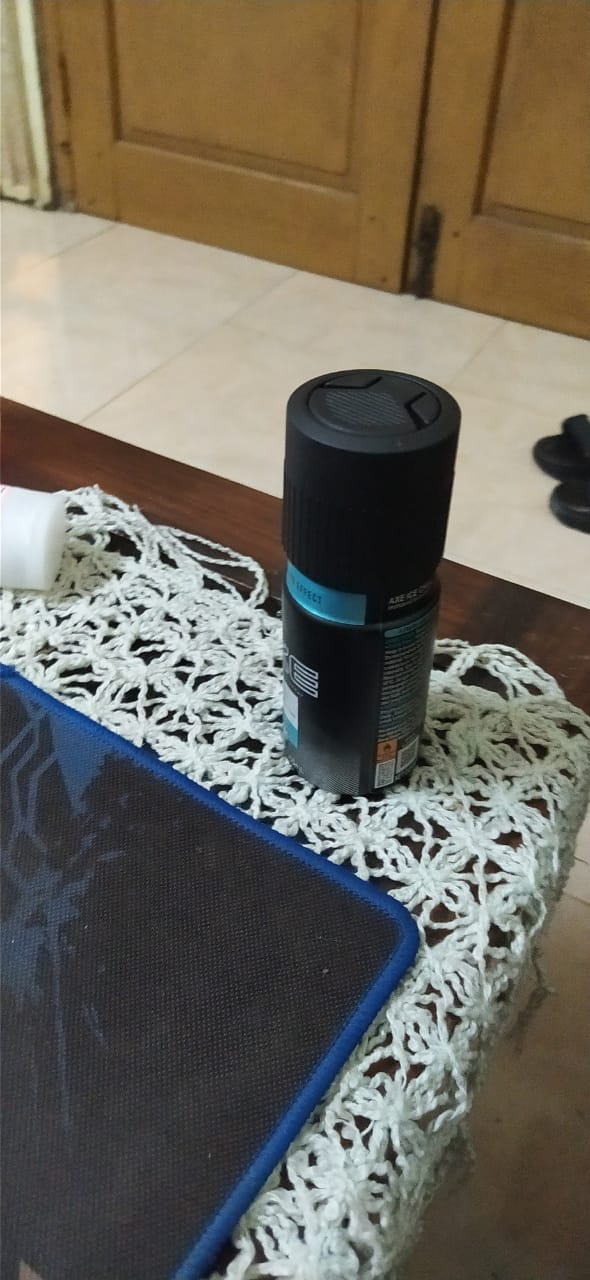axe: (275, 361, 469, 826)
